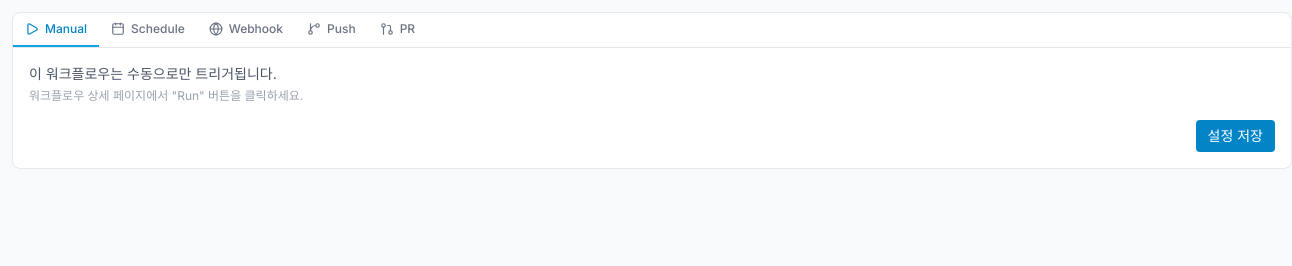
Scenario: TriggerConfigPanel › shows branches input on PR tab click
Click the button "PR" at {"x": 397, "y": 30}, box [368,13,427,47]
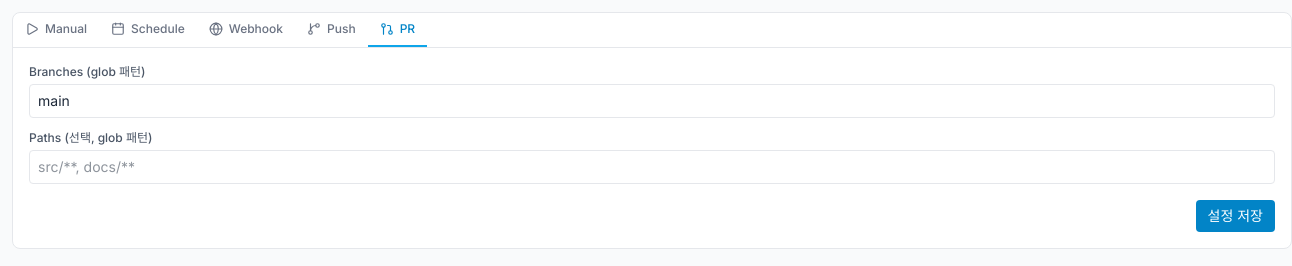
Expected: the text "Branches (glob 패턴)" is shown, [29,64,146,79]
